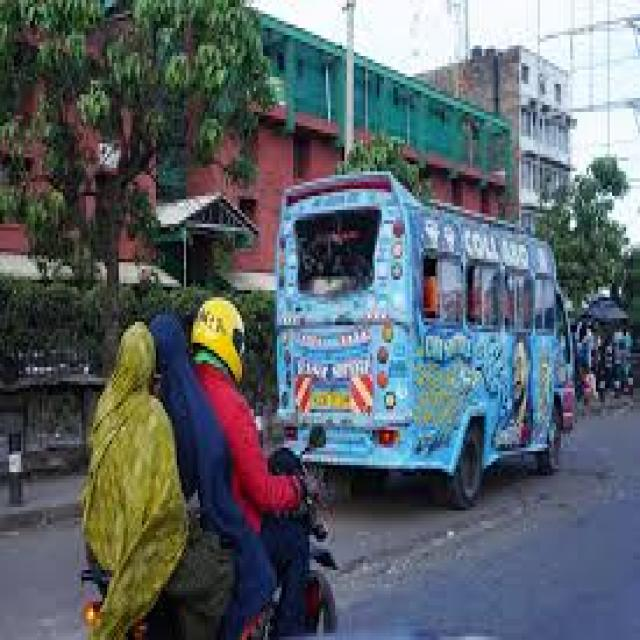bodaboda: (82, 515, 366, 640)
bus: (282, 144, 615, 492)
